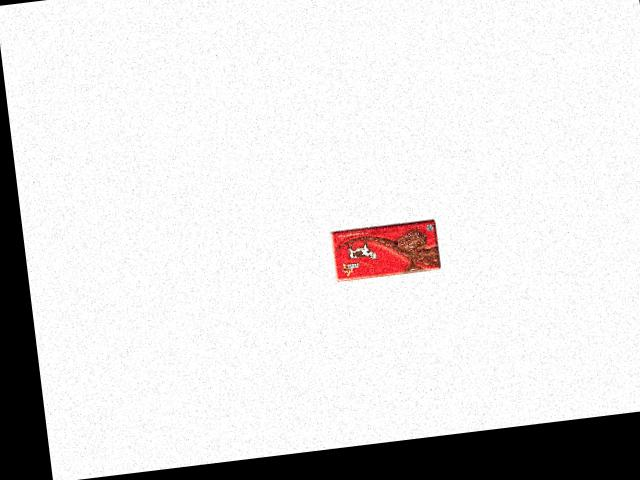chocolate: (326, 213, 444, 284)
